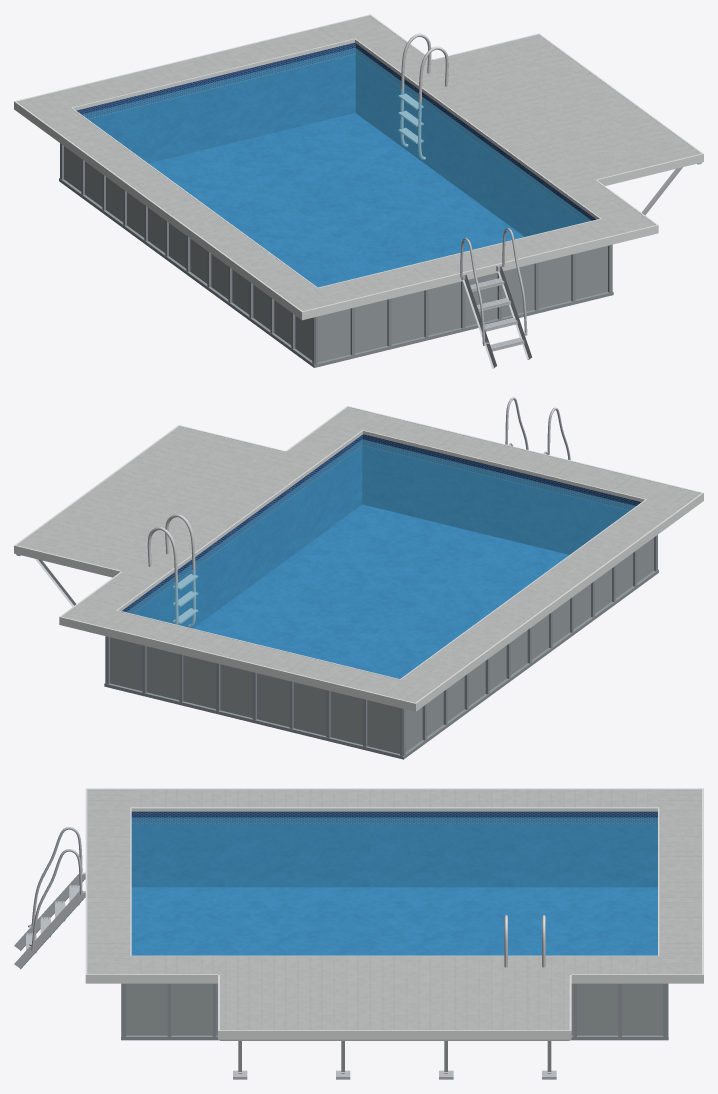
File: kayak-pool-16x24-gray-t-ag-nofence.fe6d0f150c.glb
3 views of the same model, one above another, from view 1: azimuth 30°, elevation 25°; view 2: azimuth 150°, elevation 25°; view 3: azimuth 270°, elevation 25° (orthographic). The views are drawn at different scales.
Parts seen in each view (by area): view 1: water, deck, liner_floor, liner_wall, wall, fascia, upright, ladder, steel; view 2: water, deck, liner_floor, liner_wall, wall, fascia, upright, steel, ladder; view 3: water, deck, liner_wall, liner_floor, fascia, wall, ladder, upright, stud.
Boxes of the visible parts, bbox=[...] form: water: bbox=[82, 48, 591, 287]; deck: bbox=[17, 15, 700, 311]; liner_floor: bbox=[149, 113, 524, 287]; liner_wall: bbox=[76, 42, 595, 236]; wall: bbox=[64, 146, 607, 362]; fascia: bbox=[14, 14, 703, 320]; upright: bbox=[59, 143, 613, 367]; ladder: bbox=[460, 228, 532, 368]; steel: bbox=[398, 33, 448, 159]; water: bbox=[127, 439, 635, 678]; deck: bbox=[17, 407, 700, 702]; liner_floor: bbox=[193, 504, 568, 678]; liner_wall: bbox=[121, 434, 641, 628]; wall: bbox=[110, 538, 653, 753]; fascia: bbox=[14, 406, 703, 711]; upright: bbox=[104, 535, 658, 759]; steel: bbox=[147, 514, 198, 627]; ladder: bbox=[505, 397, 570, 460]; water: bbox=[131, 817, 657, 955]; deck: bbox=[87, 789, 701, 1030]; liner_wall: bbox=[131, 811, 657, 887]; liner_floor: bbox=[131, 887, 657, 955]; fascia: bbox=[85, 788, 703, 1039]; wall: bbox=[126, 983, 663, 1035]; ladder: bbox=[14, 827, 85, 969]; upright: bbox=[121, 983, 668, 1040]; stud: bbox=[220, 1039, 569, 1079].
Bounding box in the file's own units: 7.93 × 1.9 × 9.52.
10 materials, 3 textured.
